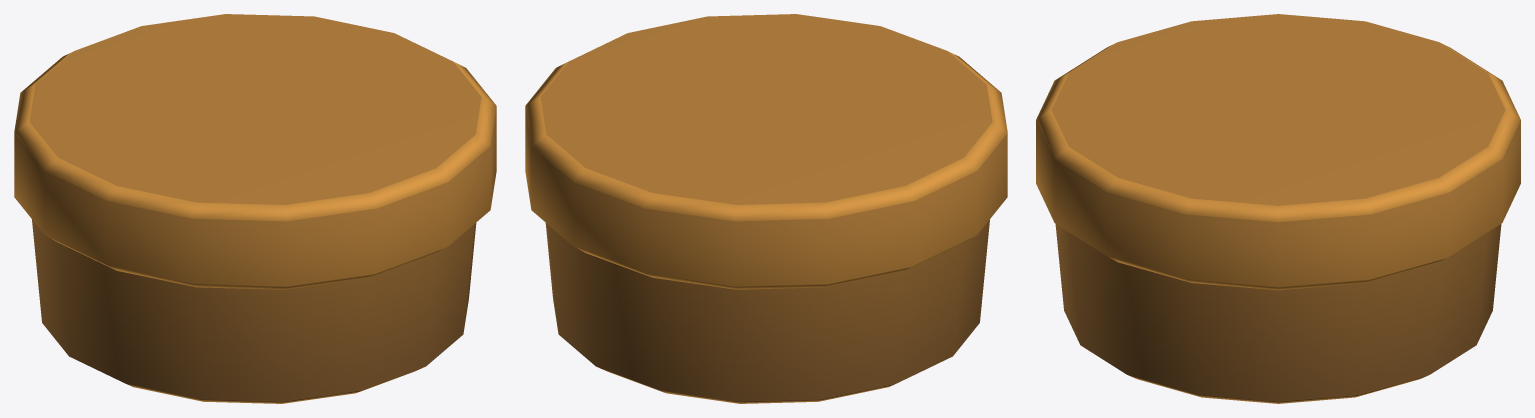
Rendered from giftbox_014.fbx.
3 views of the same model, side by side, from view 1: azimuth 30°, elevation 25°; view 2: azimuth 150°, elevation 25°; view 3: azimuth 270°, elevation 25° (orthographic).
Parts seen in each view (by area): view 1: giftbox_014; view 2: giftbox_014; view 3: giftbox_014.
Part boxes in pixels (x1,y1,x2,y2): giftbox_014: (14,14,496,403); giftbox_014: (525,14,1007,403); giftbox_014: (1036,14,1520,403).
Size of the model in its own units: 226 by 226 by 108.
